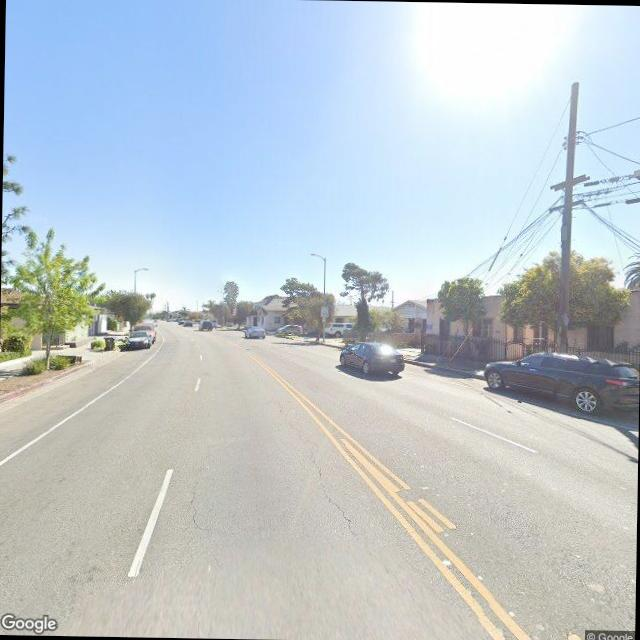pothole: (310, 462, 358, 540), (181, 482, 206, 547)
